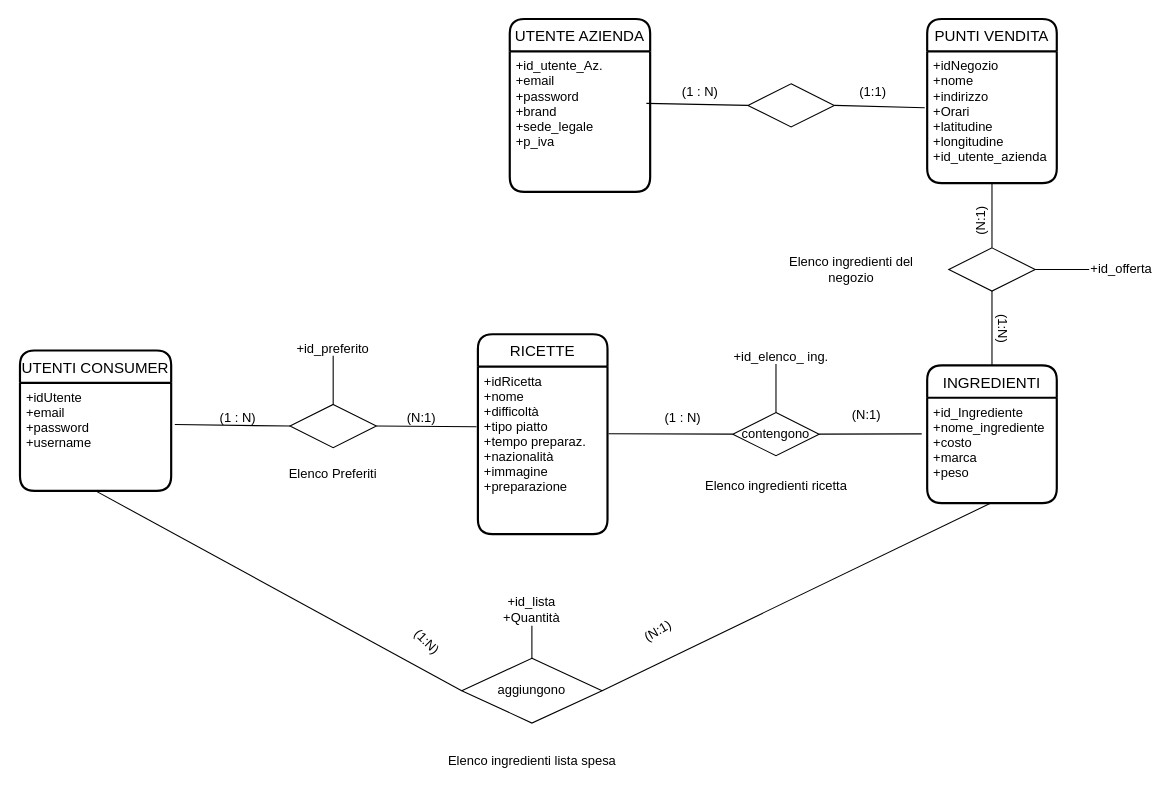
Image size: 1172x796. Some labels were removed from this diagram. Each missing label, with the centre of its shape:
"gestisce" belongs at (x=790, y=105).
"salvano" belongs at (x=332, y=425).
"vendono" belongs at (x=991, y=269).
